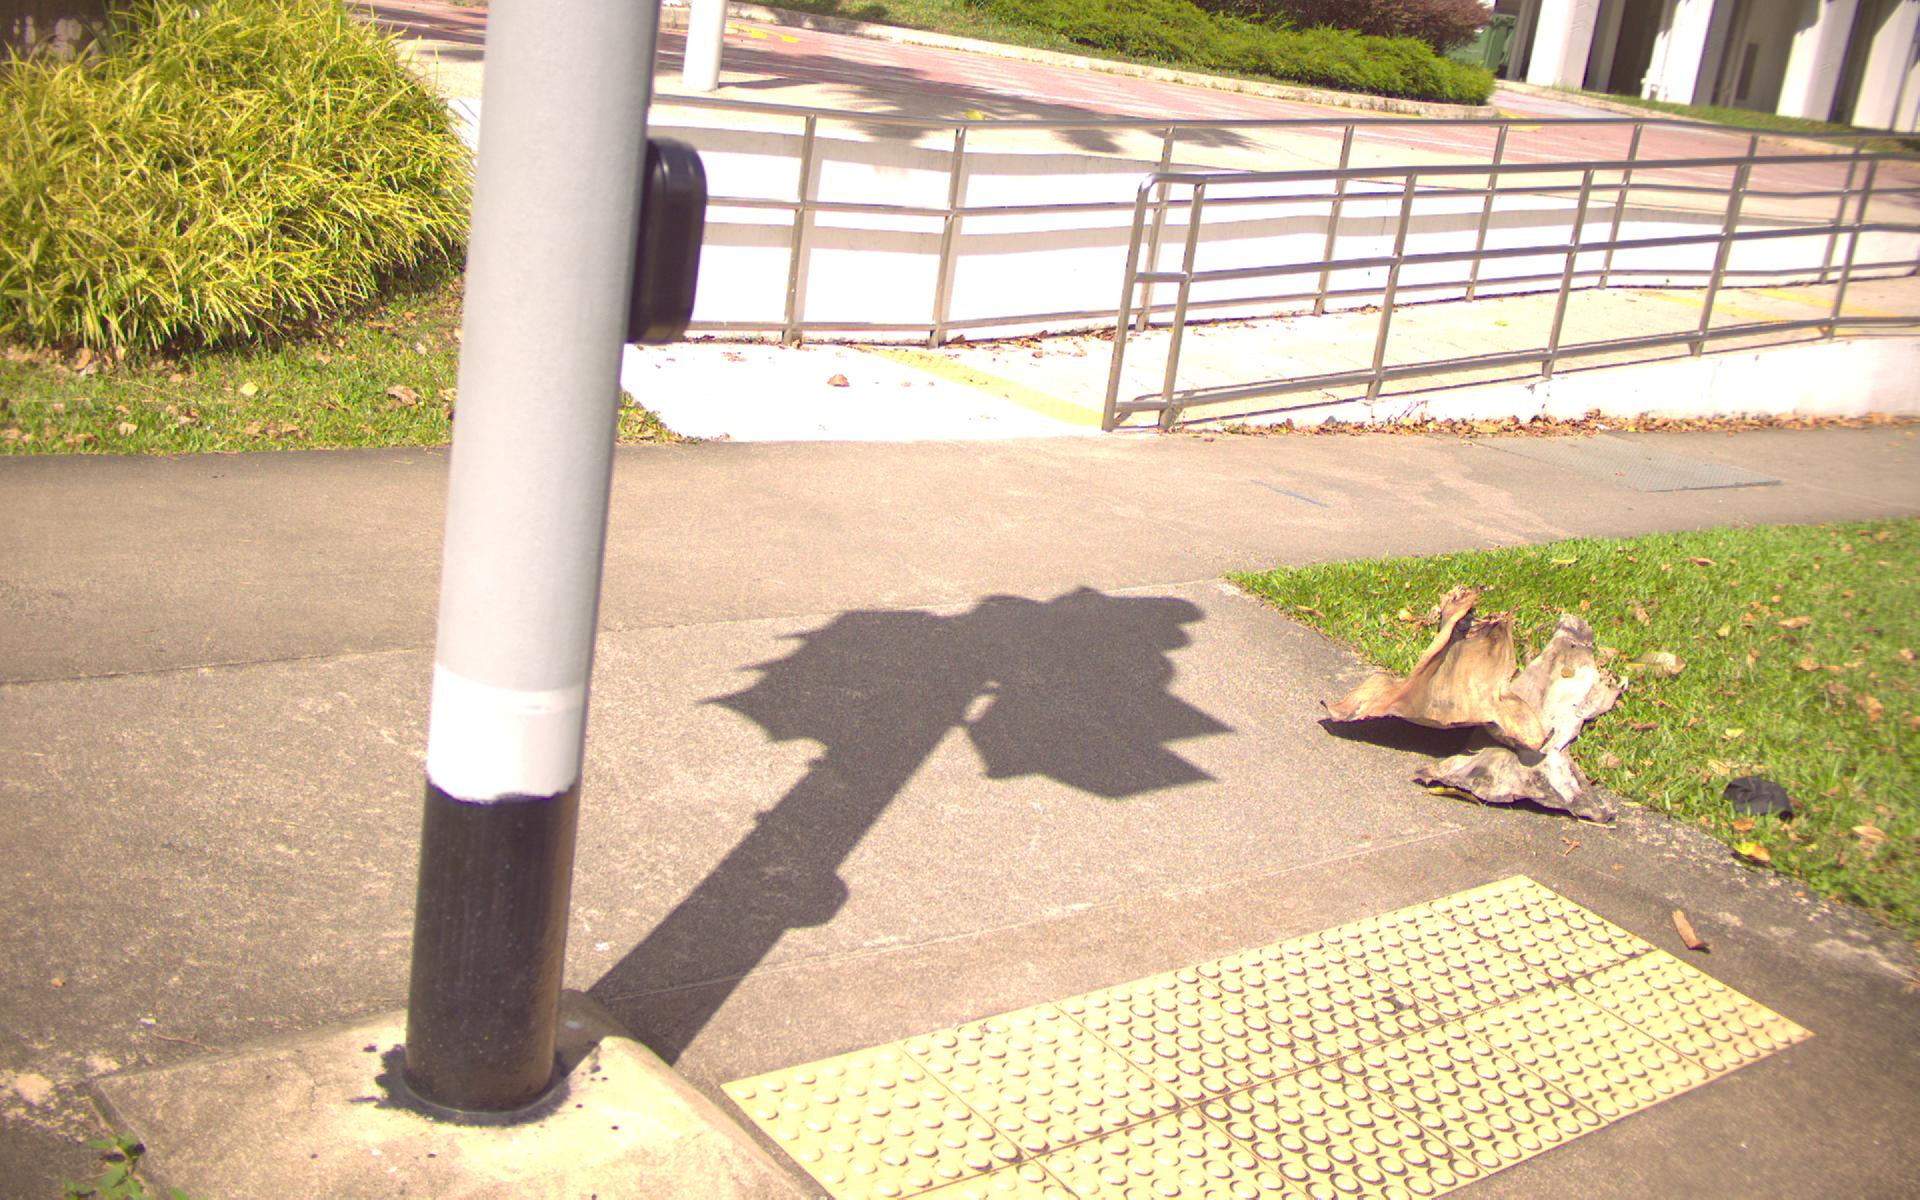road_turf_low: (1232, 524, 1919, 928)
